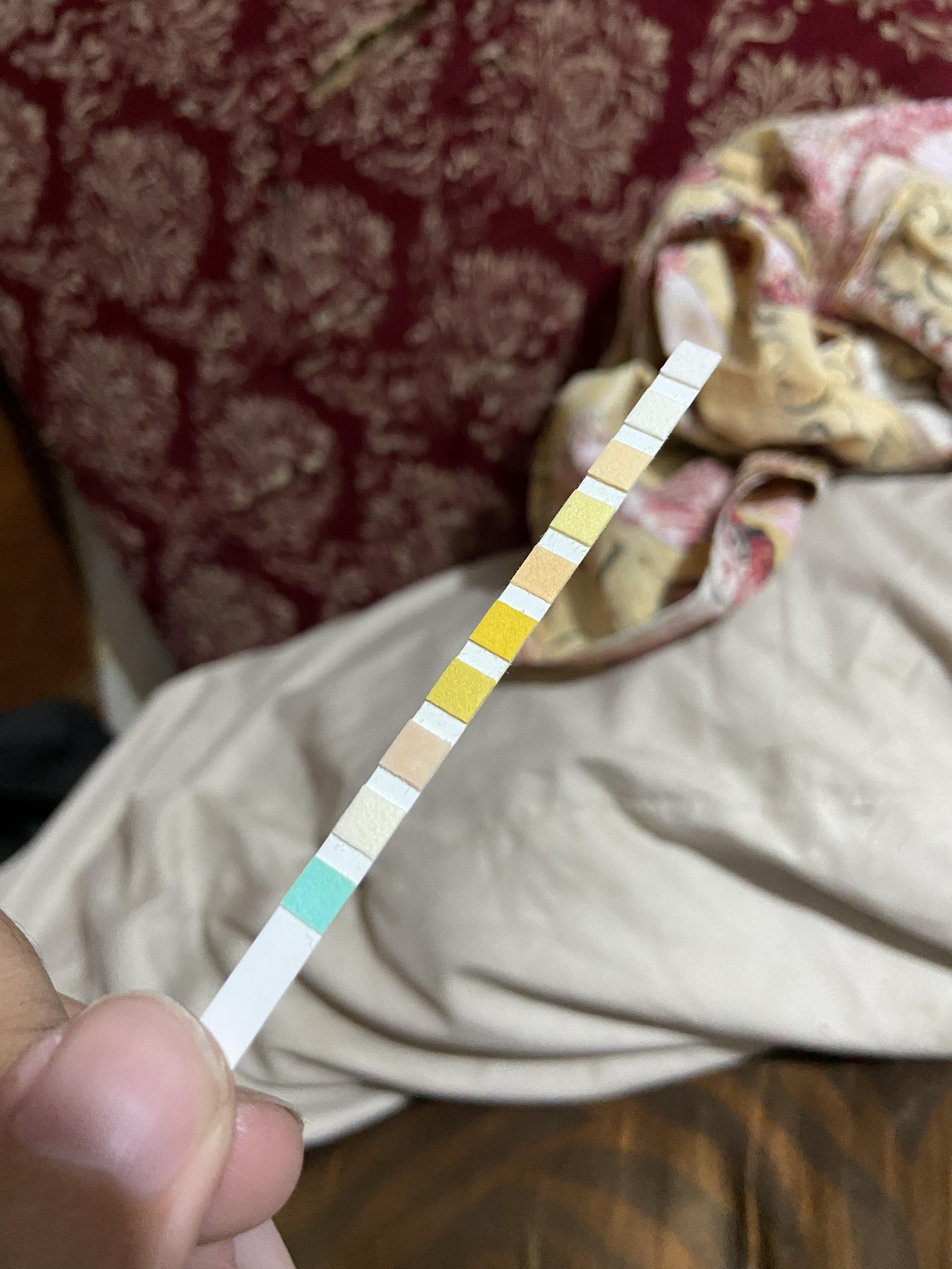Bilirubin: (349, 804, 391, 838)
Blood: (485, 615, 523, 646)
Glucose: (299, 877, 337, 914)
Ketone: (397, 736, 439, 773)
Leukocytes: (674, 353, 709, 378)
Nitrite: (639, 401, 675, 426)
Protein: (563, 502, 604, 530)
SpGravity: (441, 676, 485, 705)
Urobilinogen: (603, 452, 639, 480)
pH: (525, 559, 564, 589)
strip: (202, 343, 721, 1048)
